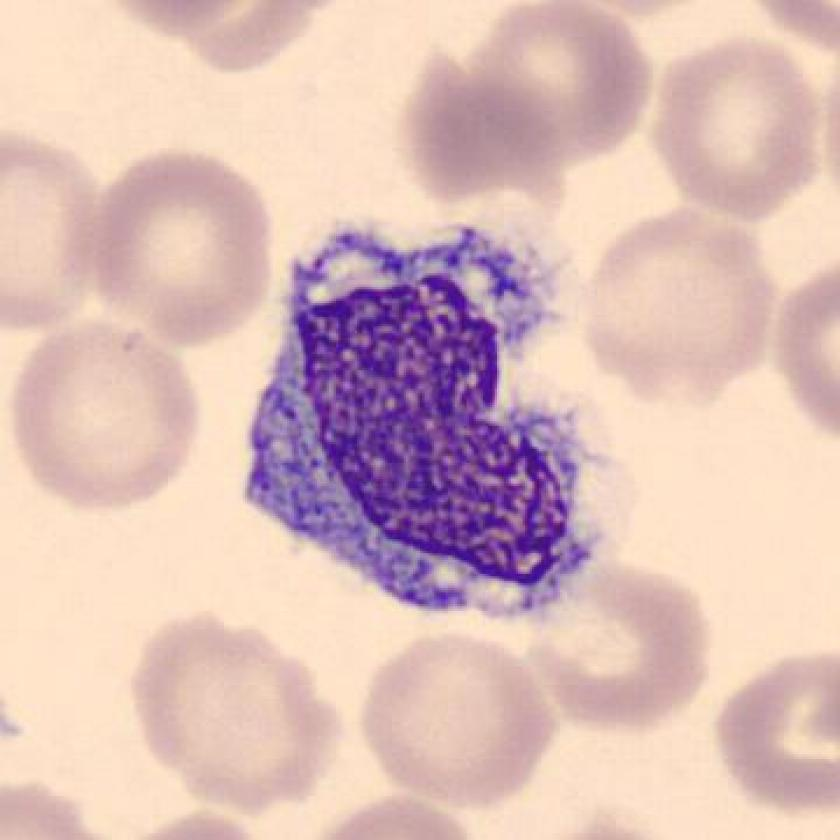monocyte: (218, 193, 640, 637)
